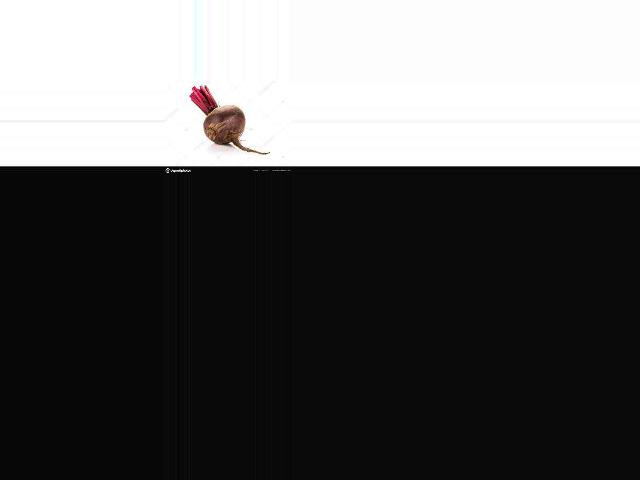beet: (190, 86, 270, 154)
